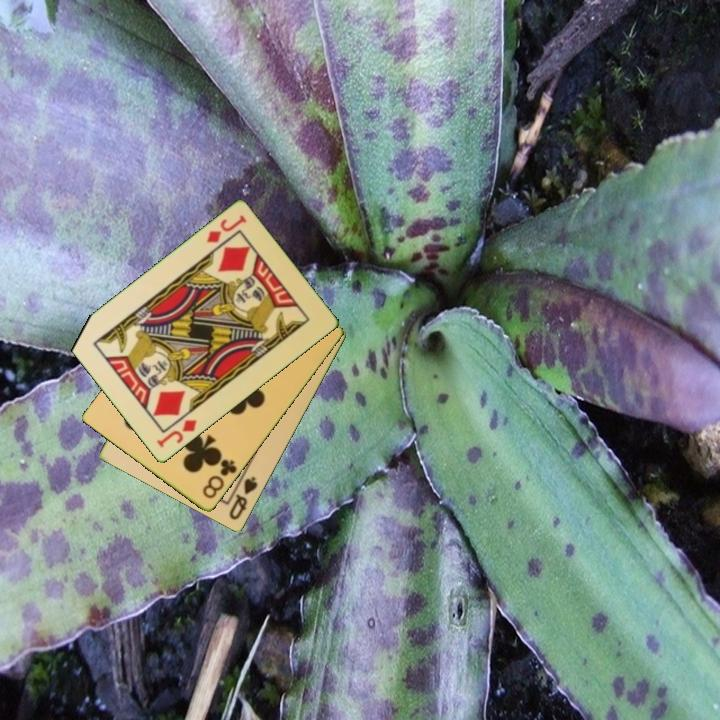8c: (199, 456, 240, 502)
Jd: (153, 416, 200, 451), (203, 212, 249, 246)
Qs: (225, 473, 261, 523)
